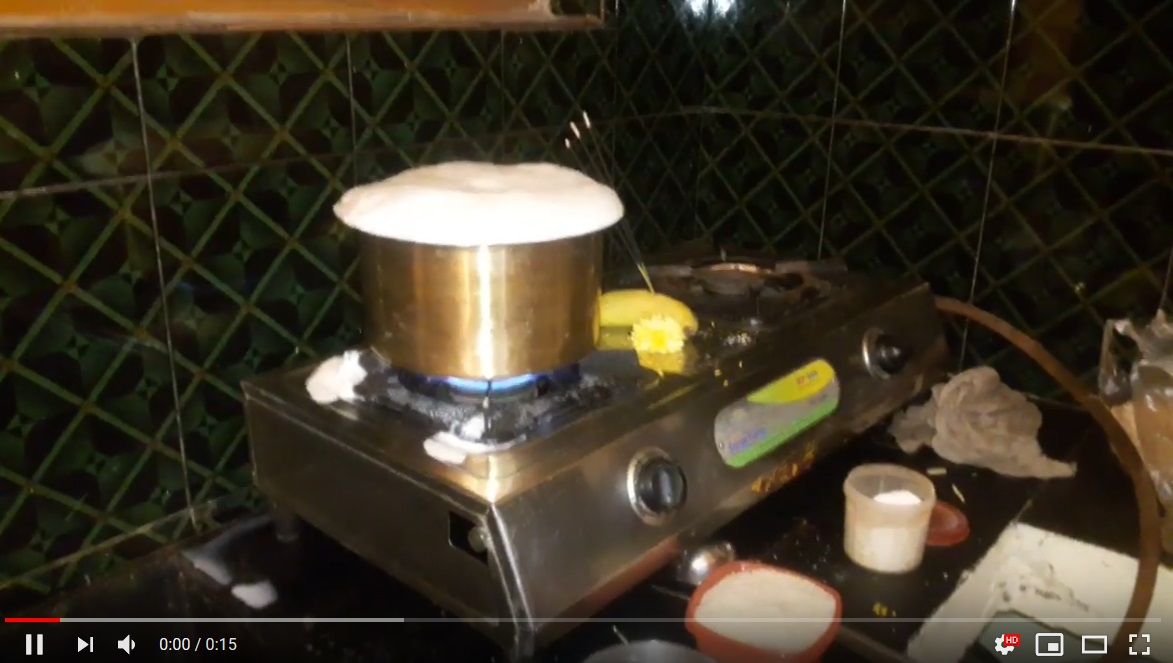Boiled: (312, 149, 620, 407)
